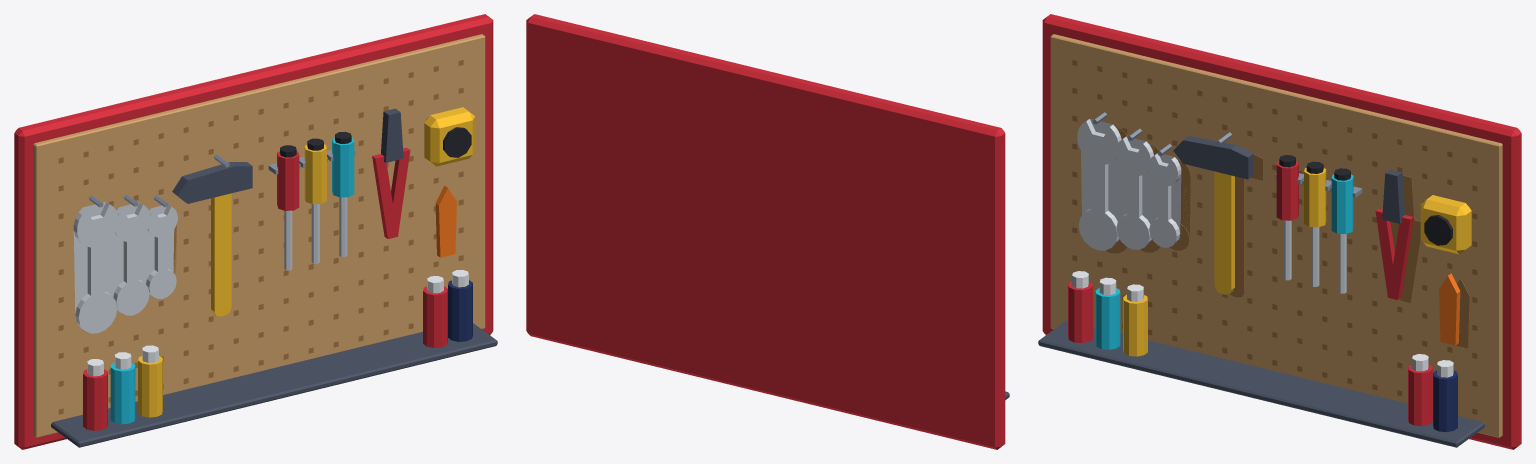
File: Pegboard.fbx
3 views of the same model, side by side, from view 1: azimuth 30°, elevation 25°; view 2: azimuth 150°, elevation 25°; view 3: azimuth 330°, elevation 25° (orthographic).
Visible parts, largest first — view 1: Pegboard; view 2: Pegboard; view 3: Pegboard.
Part boxes in pixels (left/top/right/bottom): Pegboard: left=14, top=14, right=497, bottom=449; Pegboard: left=526, top=14, right=1009, bottom=449; Pegboard: left=1038, top=14, right=1521, bottom=449.
Size of the model in its own units: 9.5 by 6.1 by 1.35.
Materials: 1 (1 with a texture image).
